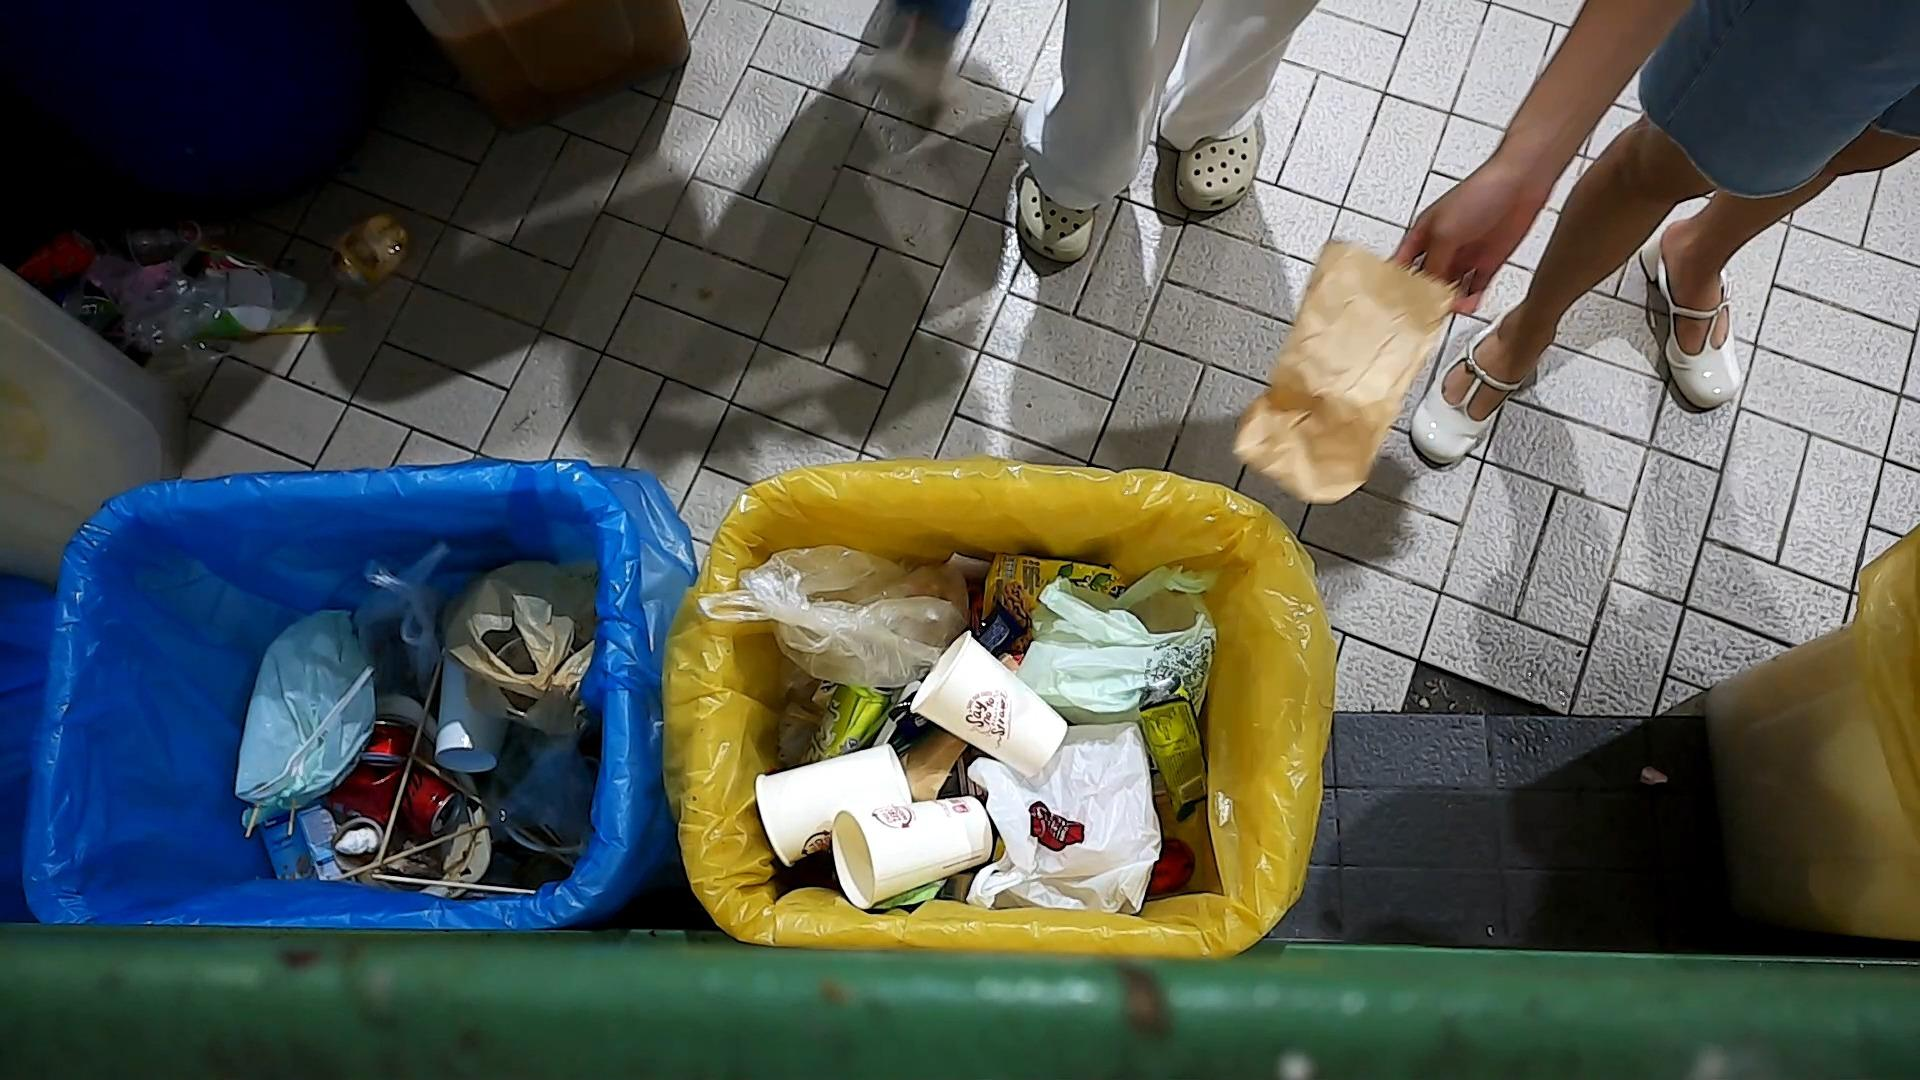can: (798, 671, 891, 769), (363, 766, 456, 829)
filled plastic bag: (702, 541, 973, 688), (440, 558, 599, 735), (227, 630, 369, 820)
milk carton: (257, 804, 351, 886)
paper bag: (1230, 232, 1464, 505)
plastic bag: (964, 708, 1154, 910), (1017, 568, 1213, 721)
plastic cutlery: (248, 667, 375, 802)
snack packaging: (1143, 680, 1204, 831)
sticks: (369, 666, 440, 876), (335, 819, 489, 881), (364, 866, 538, 893)
zero waste cup: (911, 632, 1071, 775), (753, 745, 915, 868), (829, 793, 996, 907)
